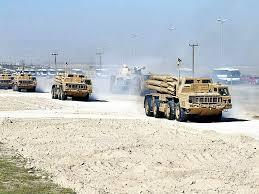MIL_SAM_TEL: (142, 72, 233, 118)
